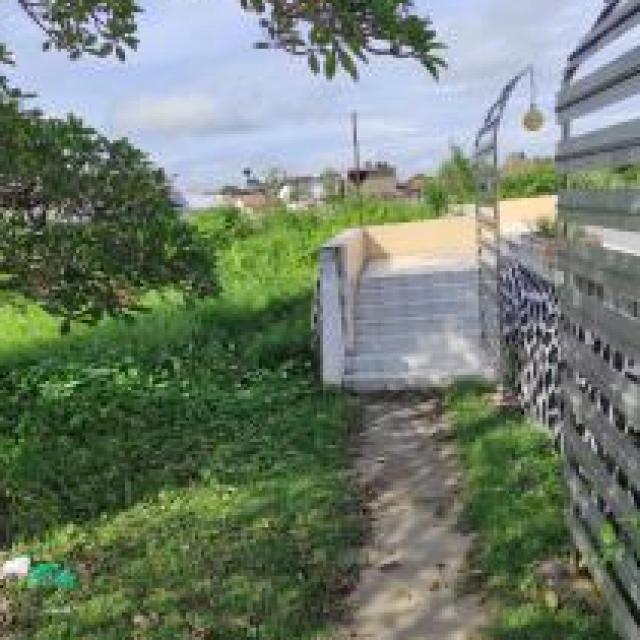upstair: (355, 269, 486, 397)
